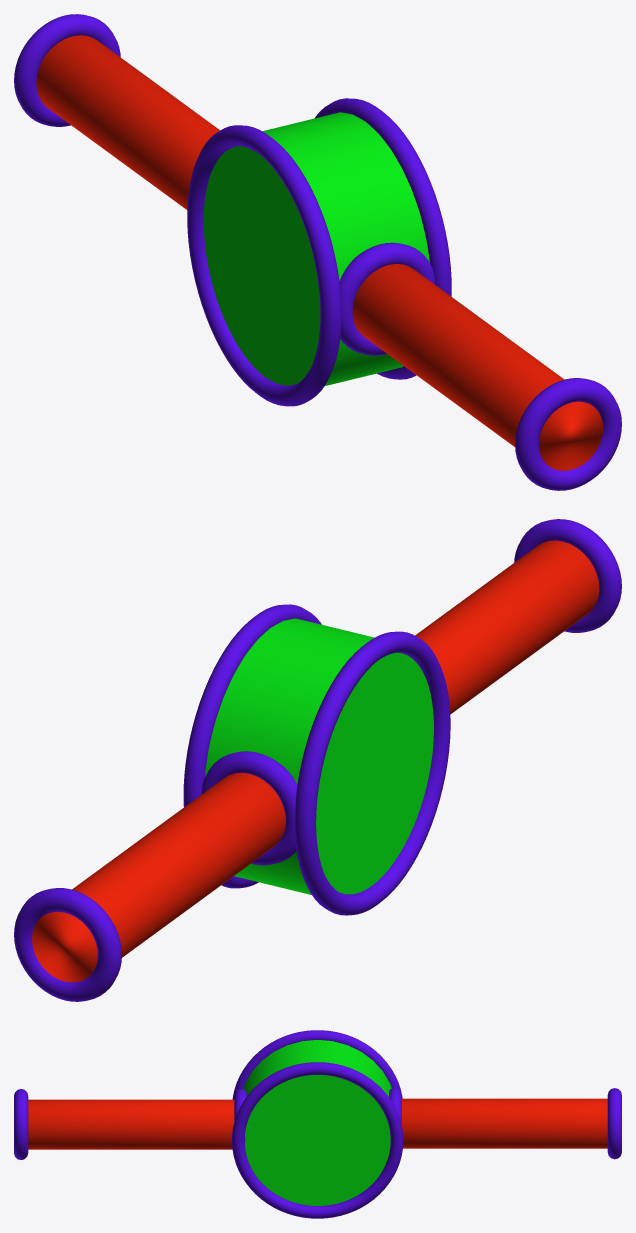
File: engel2.fbx
The picture shows the model from 3 angles, top to bottom: view 1: azimuth 30°, elevation 25°; view 2: azimuth 150°, elevation 25°; view 3: azimuth 270°, elevation 25°; orthographic projection. The views are drawn at different scales.
Visible parts, largest first — view 1: Circle, Cylinder.001, Cylinder, Torus.004, Torus.002, Torus.005, Torus.001, Torus.003; view 2: Circle, Cylinder, Cylinder.001, Torus.004, Torus.001, Torus.005, Torus.002, Torus; view 3: Circle, Cylinder, Cylinder.001, Torus.005, Torus.004, Torus.001, Torus.002.
Part boxes in pixels (box(x1,y1,x2,y2)): Circle: box(203, 112, 429, 385); Cylinder.001: box(352, 264, 603, 470); Cylinder: box(36, 35, 219, 209); Torus.004: box(187, 125, 341, 406); Torus.002: box(515, 378, 621, 490); Torus.005: box(314, 98, 451, 379); Torus.001: box(14, 14, 120, 126); Torus.003: box(339, 242, 435, 355); Circle: box(205, 618, 433, 894); Cylinder: box(32, 772, 285, 982); Cylinder.001: box(415, 540, 599, 714); Torus.004: box(295, 631, 450, 915); Torus.001: box(14, 888, 121, 1001); Torus.005: box(183, 604, 321, 888); Torus.002: box(514, 519, 621, 632); Torus: box(201, 751, 297, 865); Circle: box(243, 1040, 391, 1205); Cylinder: box(401, 1098, 607, 1148); Cylinder.001: box(28, 1099, 234, 1149); Torus.005: box(232, 1062, 403, 1218); Torus.004: box(232, 1030, 402, 1099); Torus.001: box(607, 1088, 621, 1159); Torus.002: box(14, 1089, 28, 1159).
Bounding box in the file's own units: 171 × 331 × 1174.
